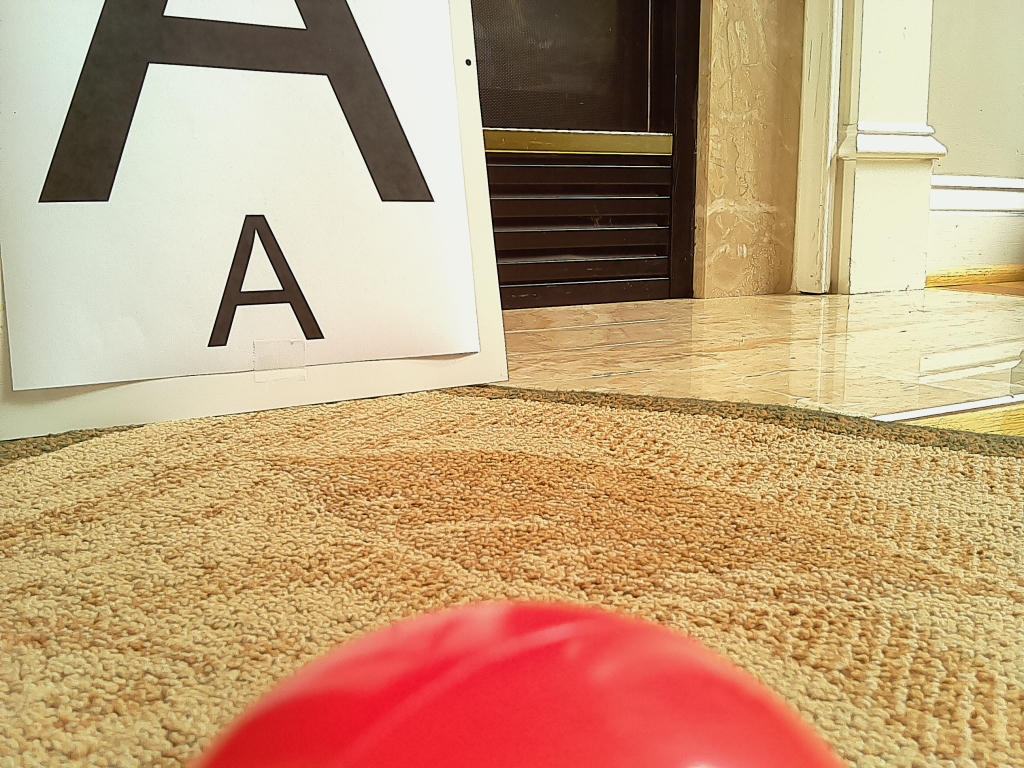letter: (207, 215, 326, 347)
